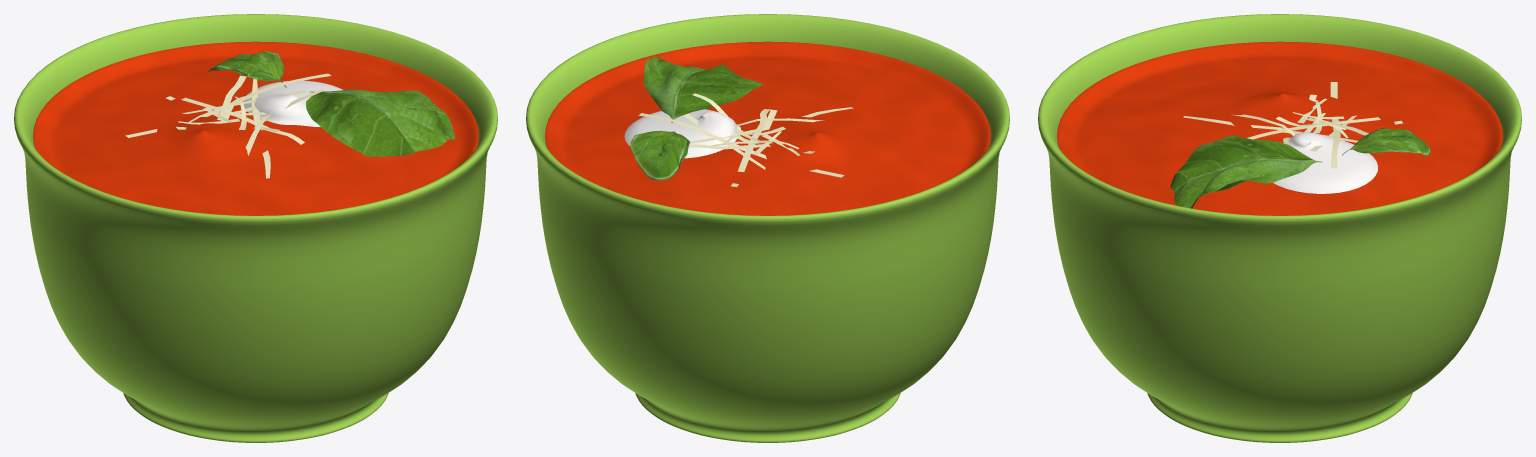
The model's file is soup2.gltf.
The picture shows the model from 3 angles, left to right: view 1: azimuth 30°, elevation 25°; view 2: azimuth 150°, elevation 25°; view 3: azimuth 270°, elevation 25°; orthographic projection.
Parts seen in each view (by area): view 1: 14; view 2: 14; view 3: 14.
Boxes of the visible parts, x1=… form: 14: x1=14, y1=14, x2=497, y2=442; 14: x1=526, y1=14, x2=1009, y2=442; 14: x1=1038, y1=14, x2=1521, y2=442.
Size of the model in its own units: 135 by 86.23 by 135.
Materials: 5 (2 with a texture image).
